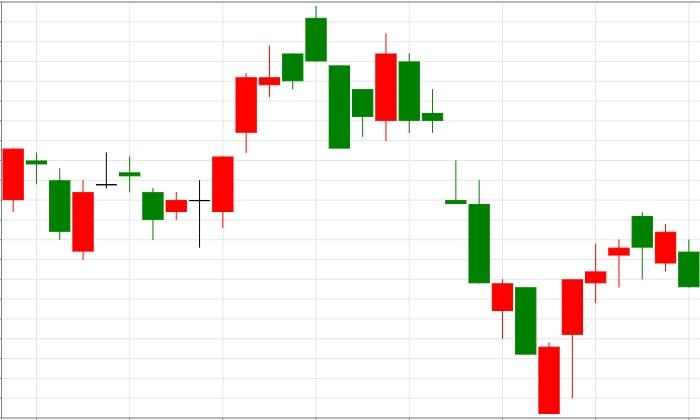bullish_engulfing_rise: (305, 5, 398, 149)
